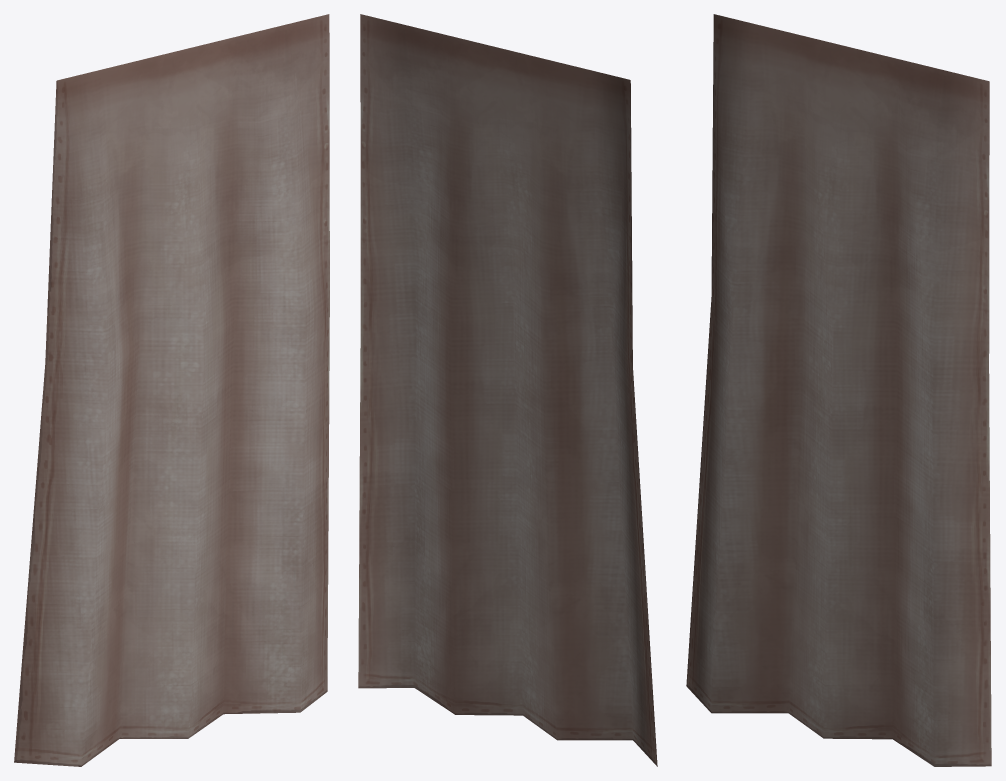
File: curtain_5.FBX
3 views of the same model, side by side, from view 1: azimuth 30°, elevation 25°; view 2: azimuth 150°, elevation 25°; view 3: azimuth 330°, elevation 25° (orthographic). The views are drawn at different scales.
Parts seen in each view (by area): view 1: curtain_5; view 2: curtain_5; view 3: curtain_5.
Part boxes in pixels (bbox=[...]): curtain_5: bbox=[14, 14, 329, 766]; curtain_5: bbox=[358, 14, 657, 766]; curtain_5: bbox=[686, 14, 991, 766].
Bounding box in the file's own units: 79.38 × 167 × 10.92.
Materials: 1 (1 with a texture image).
